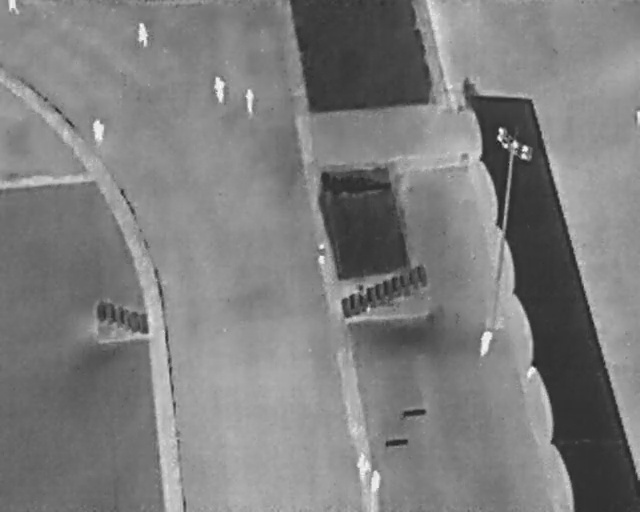Person: (478, 328, 494, 359), (356, 452, 371, 485), (242, 88, 257, 117), (213, 73, 227, 102), (92, 119, 104, 144), (137, 22, 148, 48), (372, 466, 381, 494), (7, 0, 18, 14)
